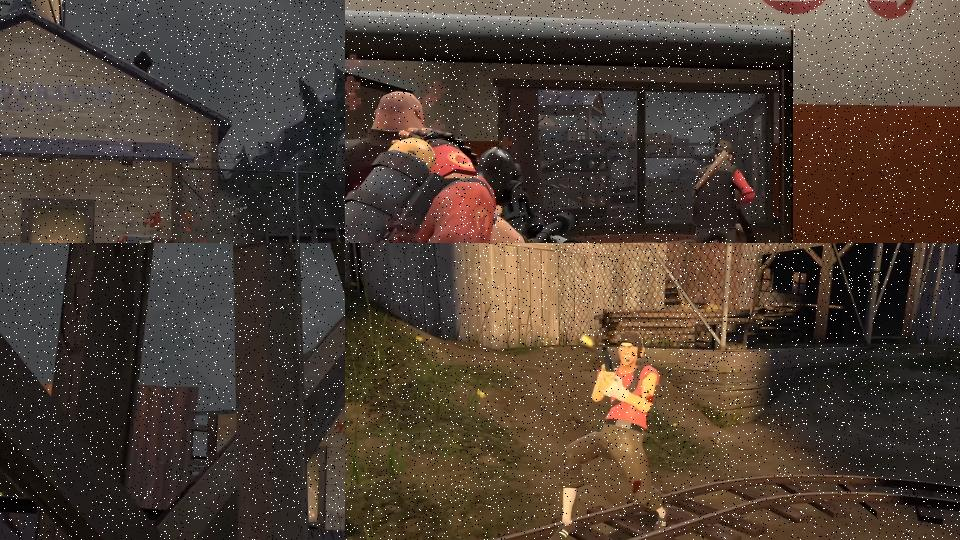Enemy: (345, 90, 601, 243), (345, 134, 588, 243), (548, 332, 668, 540), (689, 138, 755, 243)
